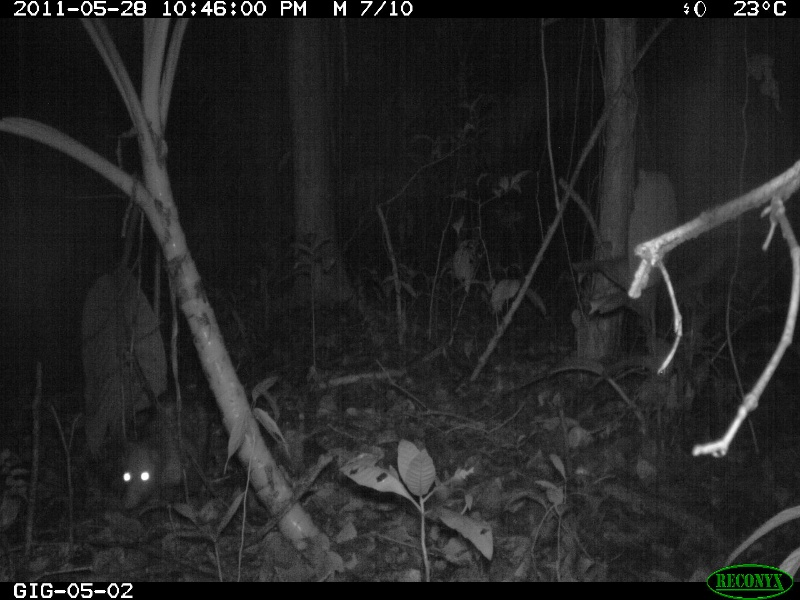opossum: (116, 389, 201, 513)
